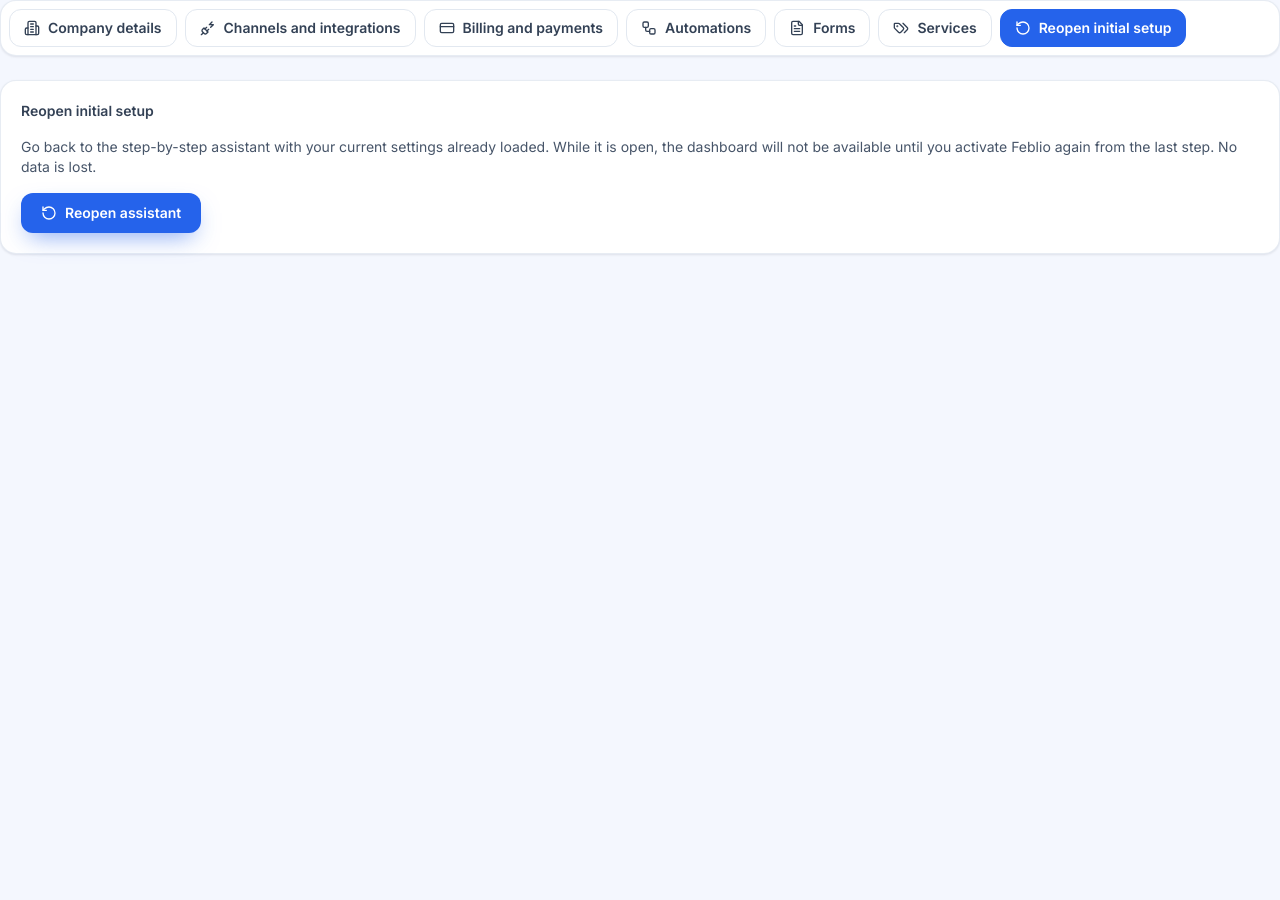
Scenario: <SettingsSection /> · idioma de la interfaz › en inglés: reabrir el asistente muestra texto y confirmación traducidos
Expected: the heading "Reopen initial setup" is shown, [21,101,154,121]
Click the button "Reopen assistant" at point(111, 213), box [21,193,201,233]
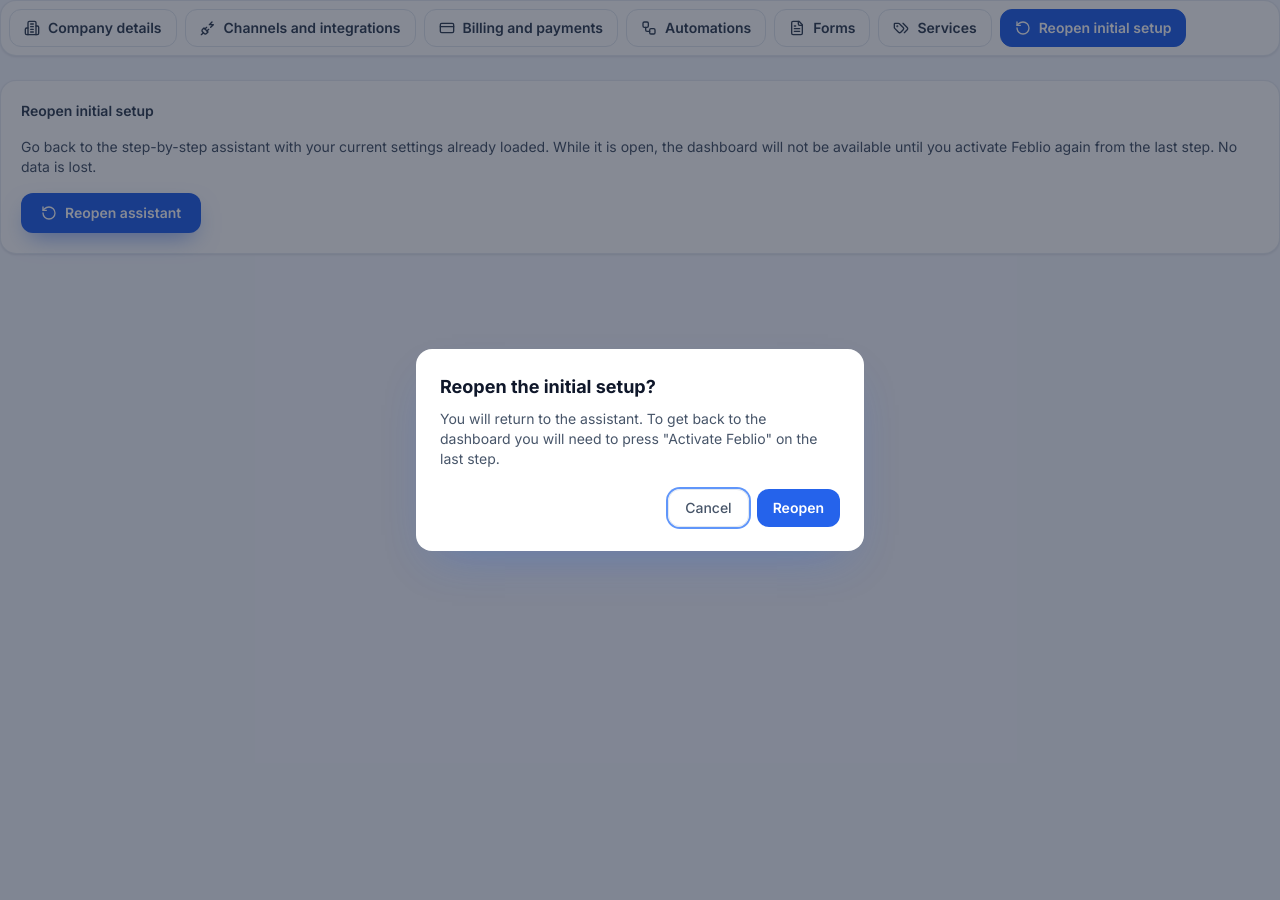
Expected: the button "Reopen" is shown, [757,489,840,527]
Expected: the button "Cancel" is shown, [668,489,749,527]
